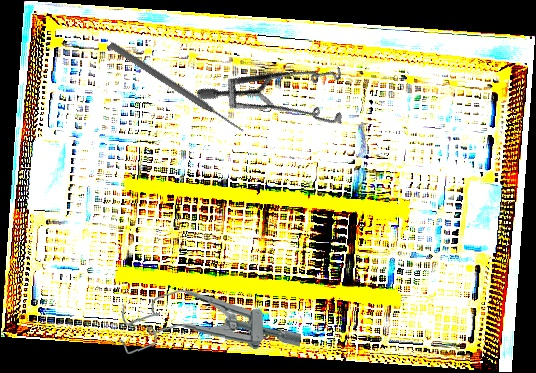Pusher: (107, 40, 247, 136)
Speculum: (194, 9, 368, 173), (118, 287, 303, 361)
